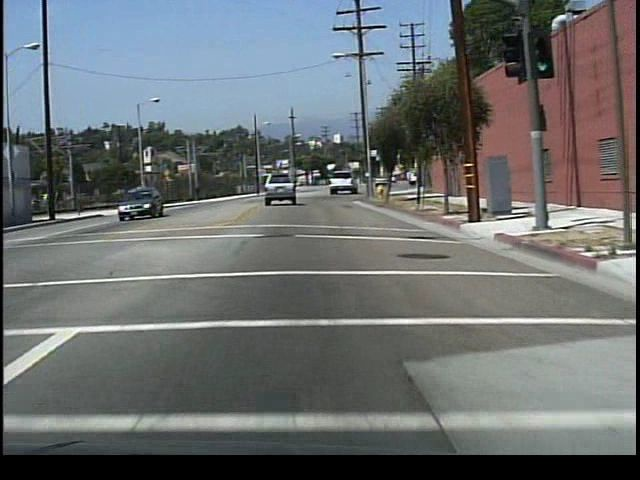person: (193, 182, 204, 203)
